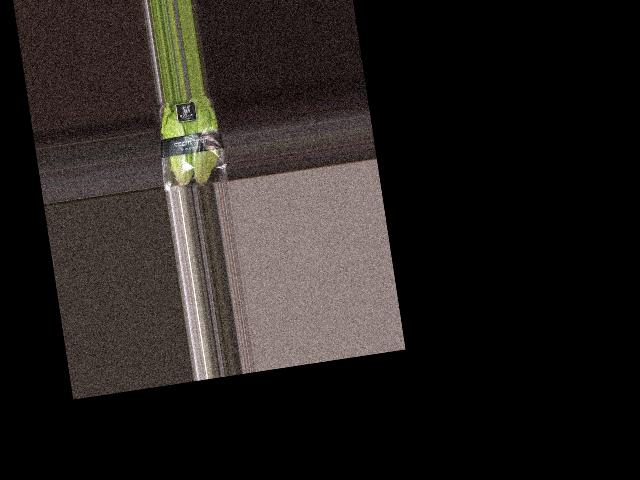lettuce: (151, 95, 225, 192)
